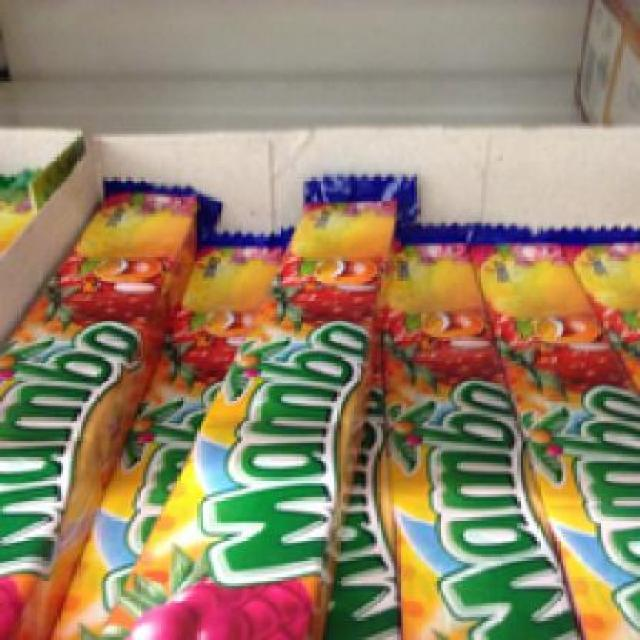Candy: (188, 174, 388, 632), (8, 159, 185, 632), (369, 215, 560, 634), (472, 212, 632, 638)
